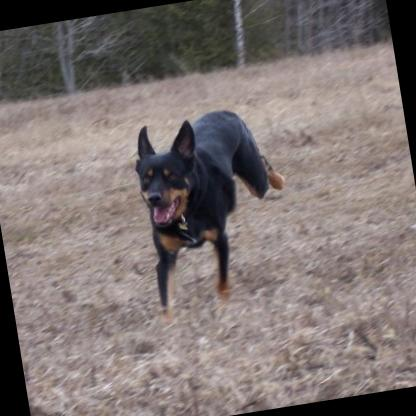kelpie: (126, 99, 304, 321)
